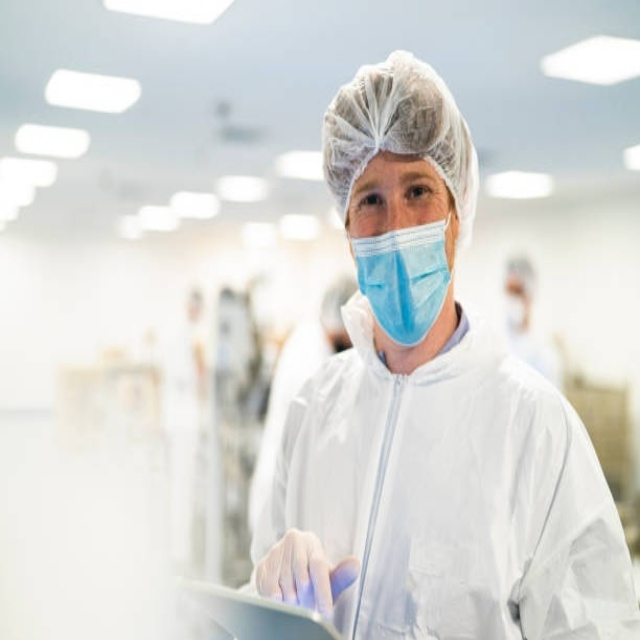Guantes: (255, 527, 356, 619)
Mascara: (350, 213, 452, 347)
Sin_gafas: (358, 167, 434, 216)
